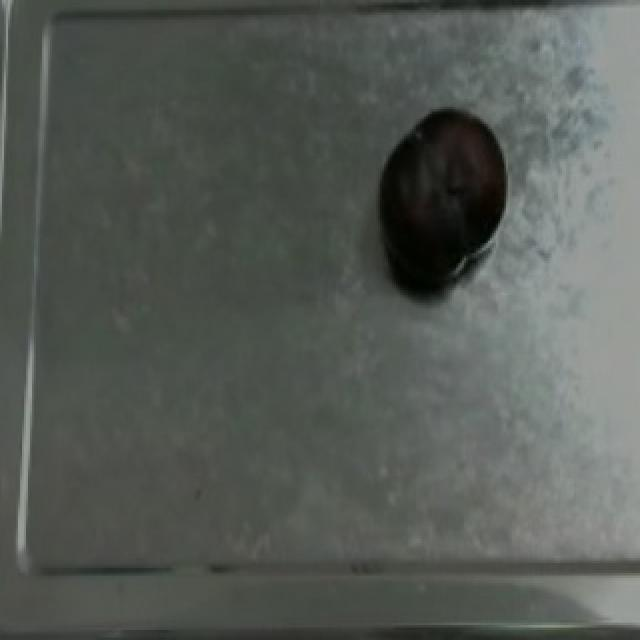Fruit: (366, 91, 520, 302)
